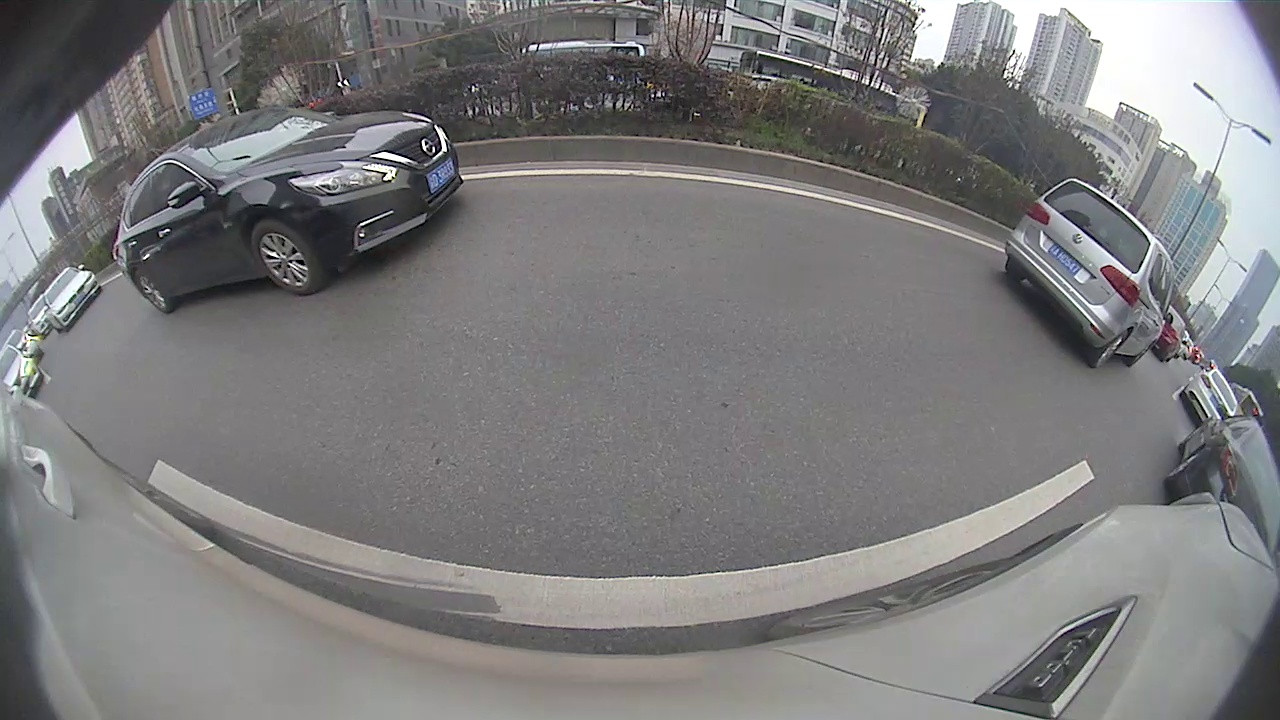car: (112, 104, 463, 315), (1003, 178, 1176, 370), (1162, 415, 1279, 555), (41, 263, 102, 333), (1181, 365, 1246, 426)
front: (249, 224, 324, 294)
rear: (133, 272, 172, 313), (1093, 331, 1132, 372)
